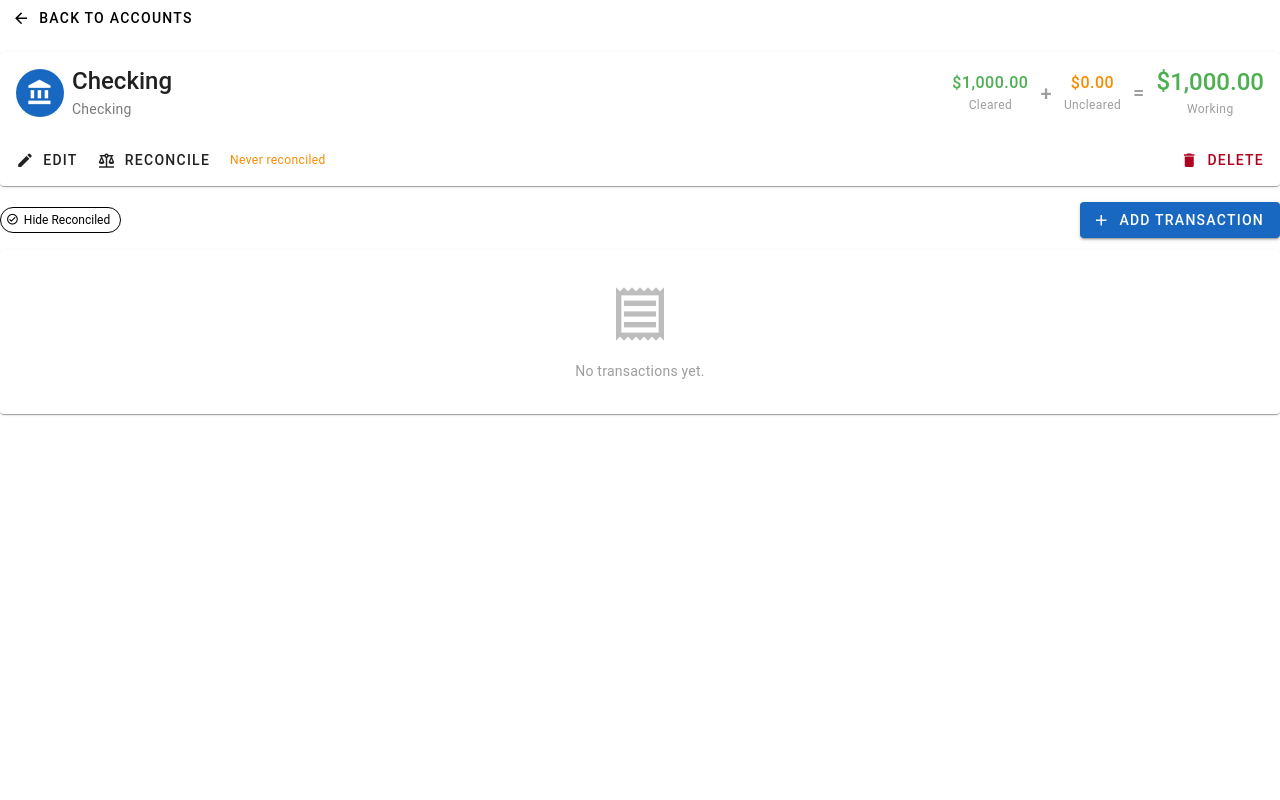
Test: AccountDetailView › opens reconcile dialog with Step 1 confirmation
The width and height of the screenshot is (1280, 800).
Click the button "Reconcile" at (154, 160), box top-left (90, 142), bottom-right (218, 178)
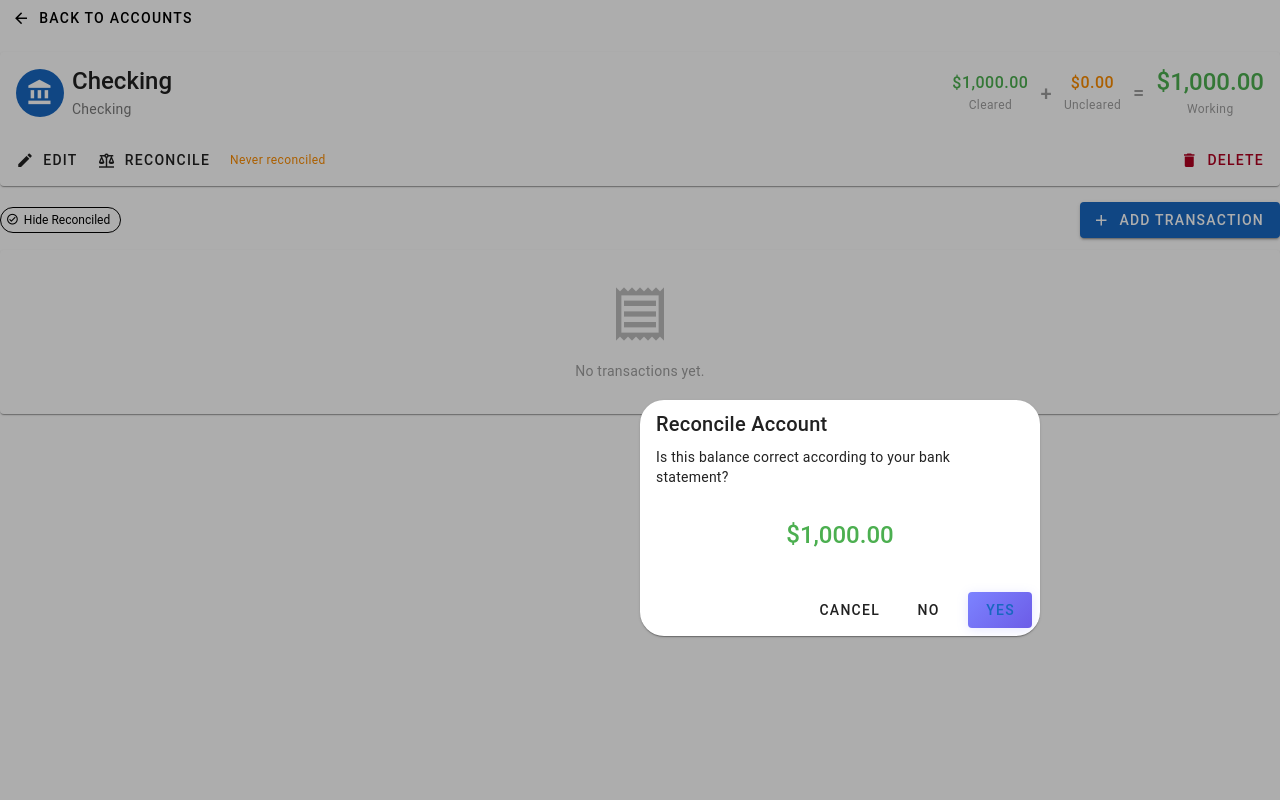
Result: the text "Reconcile Account" is shown at top-left (656, 412), bottom-right (827, 436)
Result: the text "Is this balance correct" is shown at top-left (656, 449), bottom-right (950, 485)
Result: the text "Yes" is shown at top-left (985, 602), bottom-right (1015, 618)
